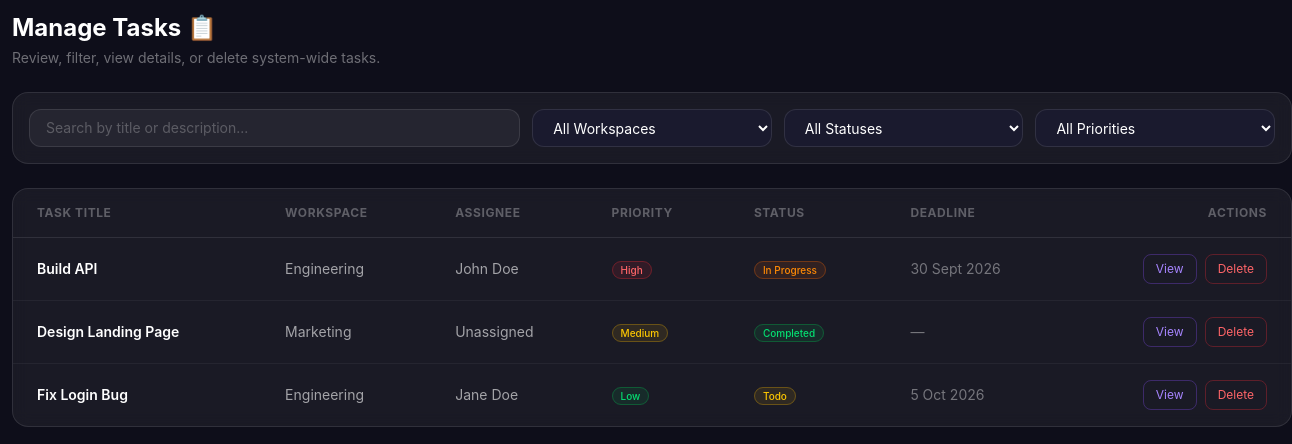
it: ManageTasks › filters tasks by priority
Expected: the text "Build API" is shown, [13,238,261,300]
Select "High" in the 3rd dropdown at (1155, 128), box [1035,109,1275,147]
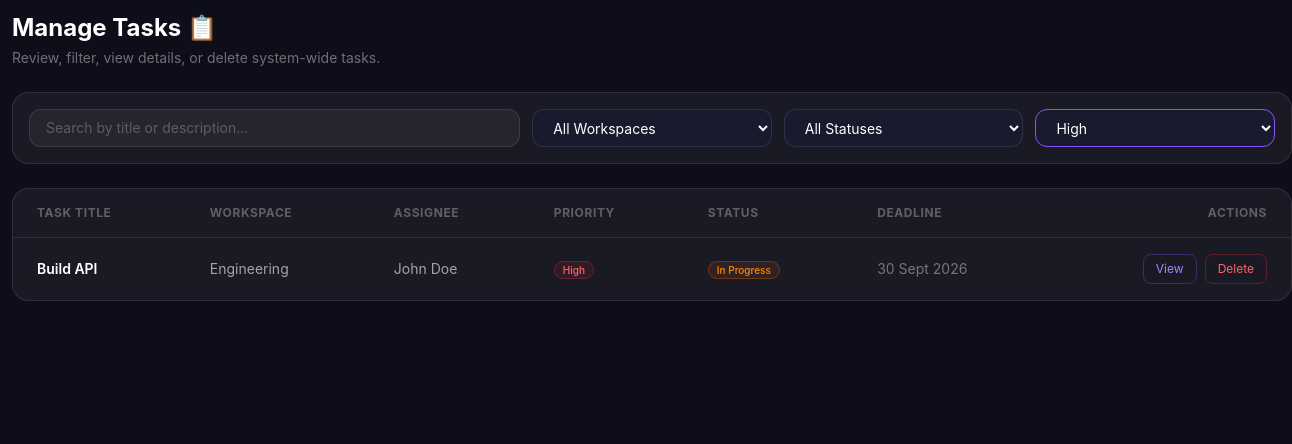
Expected: the text "Build API" is shown, [13,238,186,300]
Now the text "Design Landing Page" is gone
Now the text "Fix Login Bug" is gone
